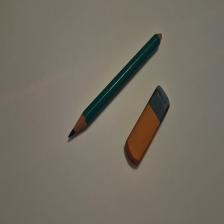eraser: (126, 86, 171, 166)
pencil: (69, 33, 163, 139)
